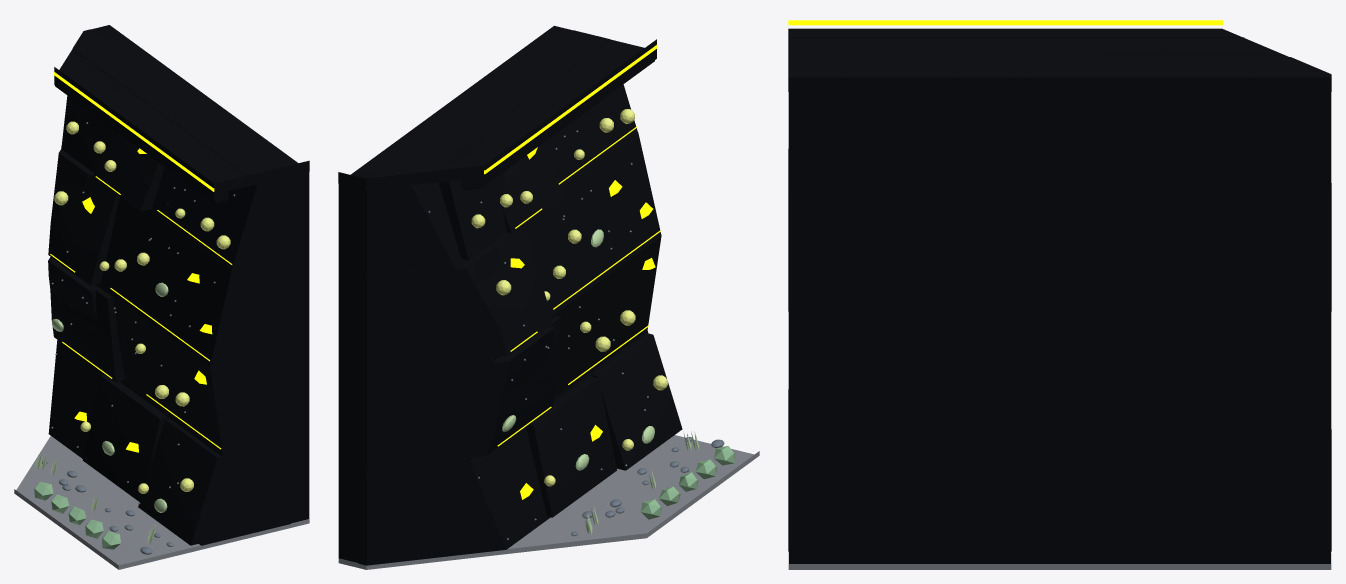
The model's file is tt_plinth_skirt_mitre_nw.glb.
The picture shows the model from 3 angles, left to right: view 1: azimuth 30°, elevation 25°; view 2: azimuth 150°, elevation 25°; view 3: azimuth 270°, elevation 25°; orthographic projection. The views are drawn at different scales.
Parts seen in each view (by area): view 1: Course2_Facets, Course0_Facets, Course3_Facets, Course1_Facets, Cap_Course, Base_Mat, Skirt_Core, Tennis_Ball_Holds, Moss_Edge, Seam_Tape, Cap_Court_Line, Jug_Holds (+2 smaller); view 2: Course0_Facets, Course2_Facets, Course1_Facets, Course3_Facets, Cap_Course, Base_Mat, Skirt_Core, Tennis_Ball_Holds, Moss_Edge, Jug_Holds, Seam_Tape, Cap_Court_Line (+2 smaller); view 3: Skirt_Core, Cap_Course, Course3_Facets, Base_Mat, Cap_Court_Line.
Boxes of the visible parts, x1,y1,x2,y2 form: Course2_Facets: [48, 146, 290, 366]; Course0_Facets: [48, 340, 290, 545]; Course3_Facets: [61, 29, 291, 269]; Course1_Facets: [48, 257, 291, 453]; Cap_Course: [54, 25, 309, 201]; Base_Mat: [14, 436, 309, 569]; Skirt_Core: [291, 171, 309, 523]; Tennis_Ball_Holds: [54, 121, 230, 493]; Moss_Edge: [34, 481, 120, 549]; Seam_Tape: [50, 176, 232, 449]; Cap_Court_Line: [54, 72, 214, 191]; Jug_Holds: [74, 148, 212, 452]; Course0_Facets: [358, 331, 682, 565]; Course2_Facets: [358, 132, 661, 374]; Course1_Facets: [358, 236, 661, 472]; Course3_Facets: [358, 30, 637, 276]; Cap_Course: [338, 25, 656, 190]; Base_Mat: [338, 435, 759, 569]; Skirt_Core: [338, 184, 358, 562]; Tennis_Ball_Holds: [471, 109, 667, 486]; Moss_Edge: [641, 446, 734, 519]; Jug_Holds: [510, 147, 655, 499]; Seam_Tape: [497, 126, 660, 446]; Cap_Court_Line: [484, 44, 657, 174]; Skirt_Core: [789, 91, 1330, 563]; Cap_Course: [788, 28, 1331, 91]; Course3_Facets: [788, 57, 1331, 188]; Base_Mat: [788, 552, 1331, 569]; Cap_Court_Line: [788, 20, 1223, 25].
Size of what is drawn, in the model's own units: 2.2 by 4 by 4.
8 materials, 3 textured.
